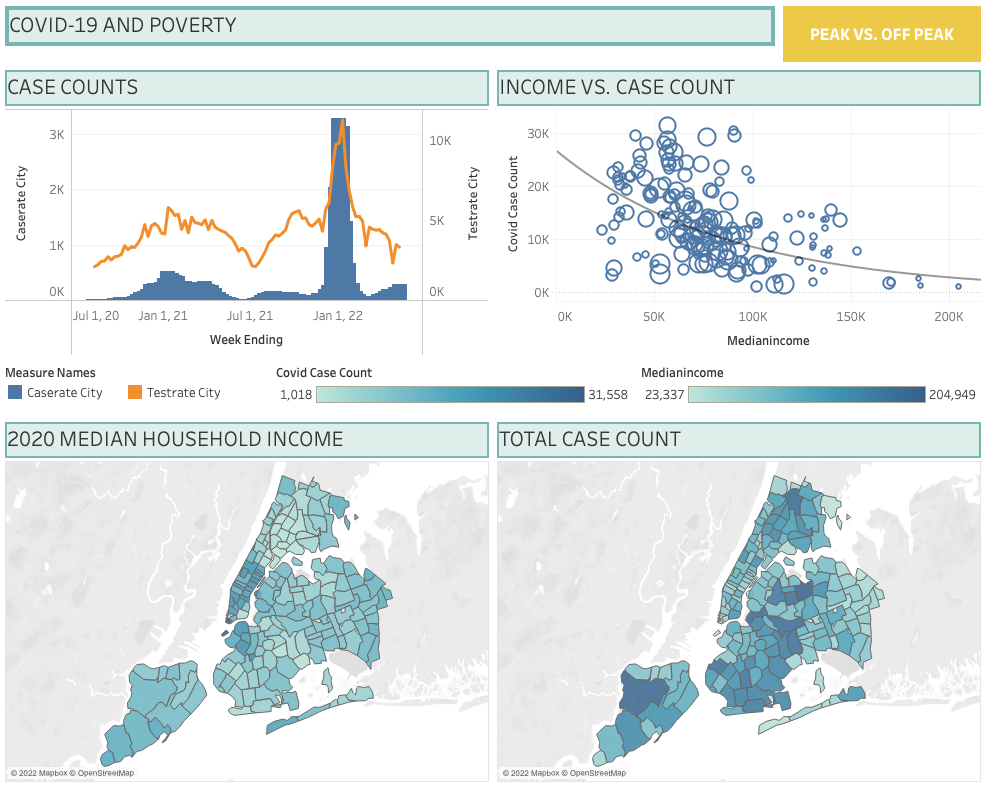

The dashboard page shown, as its layout file describes it:
{"tool":"tableau","page":{"name":"Dashboard 1","canvas":[1000,800],"ordinal":0},"visuals":[{"type":"worksheet","title":"COVID-19 AND POVERTY","mark":"Automatic","box":[8,8,778,64]},{"type":"dashboard-object","box":[786,8,206,64]},{"type":"worksheet","title":"CASE COUNTS","mark":"Automatic","rows":["CASERATE_CITY","TESTRATE_CITY"],"cols":["week_ending"],"box":[8,72,492,294]},{"type":"worksheet","title":"INCOME VS. CASE COUNT","mark":"Automatic","rows":["COVID_CASE_COUNT"],"cols":["medianincome"],"box":[500,72,492,294]},{"type":"legend","title":"CASE COUNTS","param":"[federated.1oltsup0m7hyaq17oougt0vqoslt].[:Measure Names]","box":[8,366,271,58]},{"type":"legend","title":"TOTAL CASE COUNT","param":"[federated.0xljkrj1qsut8i18f5jre1xskogp].[sum:COVID_CASE_COUNT:qk]","box":[279,366,365,58]},{"type":"legend","title":"2020 MEDIAN HOUSEHOLD INCOME","param":"[federated.0xljkrj1qsut8i18f5jre1xskogp].[sum:medianincome:qk]","box":[644,366,348,58]},{"type":"worksheet","title":"2020 MEDIAN HOUSEHOLD INCOME","mark":"Automatic","box":[8,424,492,368]},{"type":"worksheet","title":"TOTAL CASE COUNT","mark":"Automatic","box":[500,424,492,368]}]}

Visuals, with their boxes in screenshot pixels (x1, y1, x2, y2), scaled from the page's 1000x800 canvas onto the 989x786 screenshot:
"COVID-19 AND POVERTY" worksheet: <region>8, 8, 777, 71</region>
dashboard-object: <region>777, 8, 981, 71</region>
"CASE COUNTS" worksheet: <region>8, 71, 494, 360</region>
"INCOME VS. CASE COUNT" worksheet: <region>494, 71, 981, 360</region>
"CASE COUNTS" legend: <region>8, 360, 276, 417</region>
"TOTAL CASE COUNT" legend: <region>276, 360, 637, 417</region>
"2020 MEDIAN HOUSEHOLD INCOME" legend: <region>637, 360, 981, 417</region>
"2020 MEDIAN HOUSEHOLD INCOME" worksheet: <region>8, 417, 494, 778</region>
"TOTAL CASE COUNT" worksheet: <region>494, 417, 981, 778</region>
